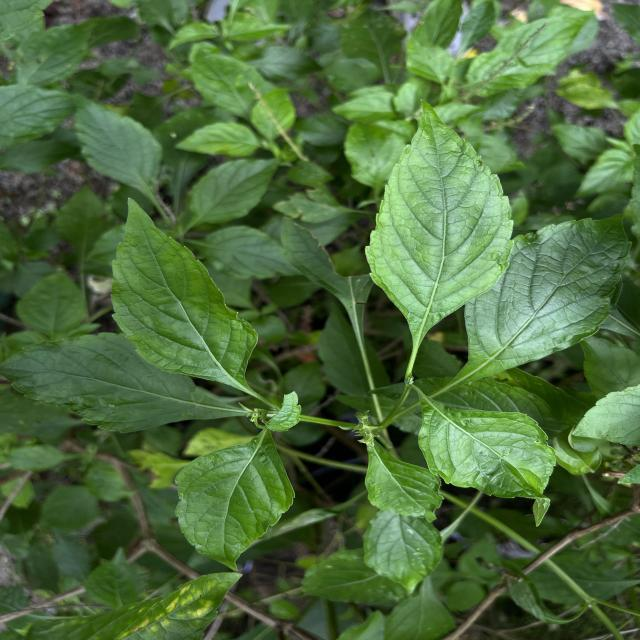Ocimum gratissimum: (361, 94, 516, 366), (446, 208, 638, 398), (107, 194, 260, 396), (0, 330, 248, 436), (412, 384, 559, 530), (171, 426, 299, 574), (361, 436, 446, 529)
